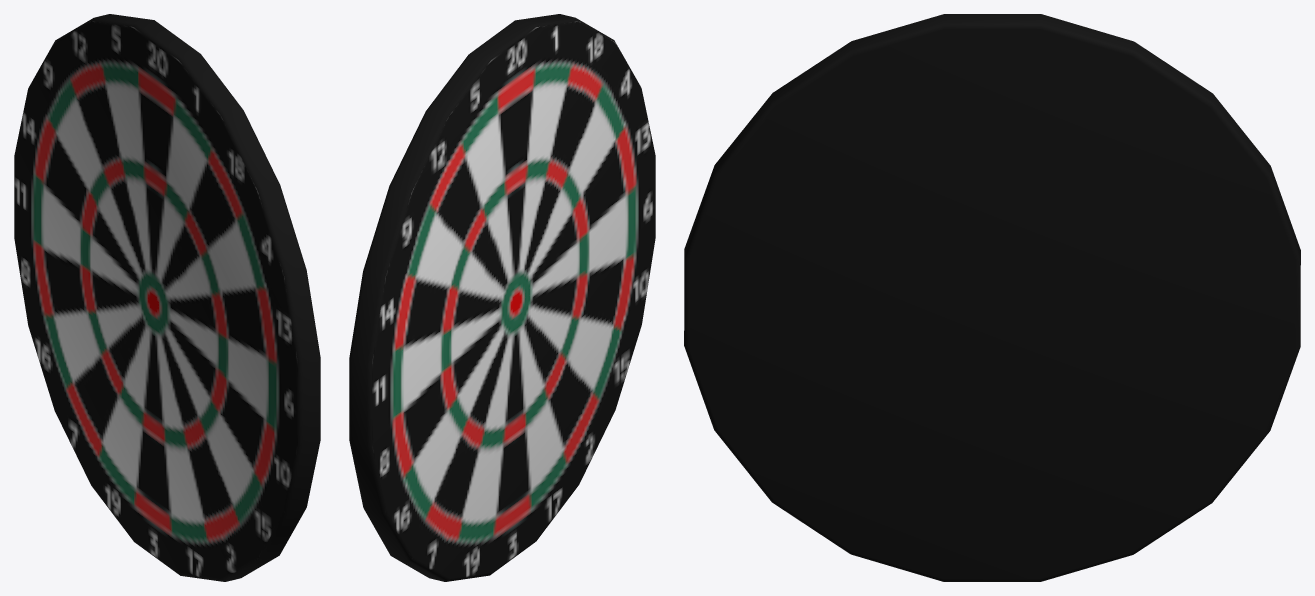
The model's file is Dart.fbx.
3 renders of one model, left to right at view 1: azimuth 30°, elevation 25°; view 2: azimuth 150°, elevation 25°; view 3: azimuth 270°, elevation 25°, orthographic. The views are drawn at different scales.
Parts seen in each view (by area): view 1: Dart; view 2: Dart; view 3: Dart.
Boxes of the visible parts, x1,y1,x2,y2 form: Dart: (14,14,320,581); Dart: (349,14,655,581); Dart: (684,14,1300,581).
Bounding box in the file's own units: 0.025 × 0.4784 × 0.4784.
